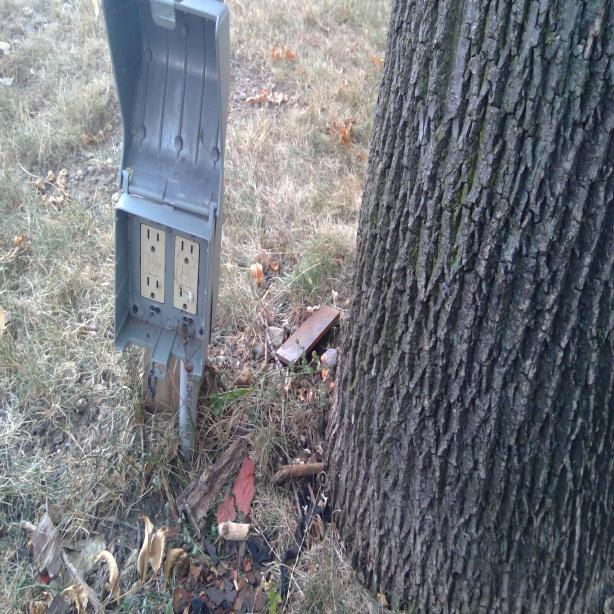typeb: (142, 270, 163, 304), (174, 282, 196, 314), (176, 237, 196, 270), (142, 227, 164, 256)
